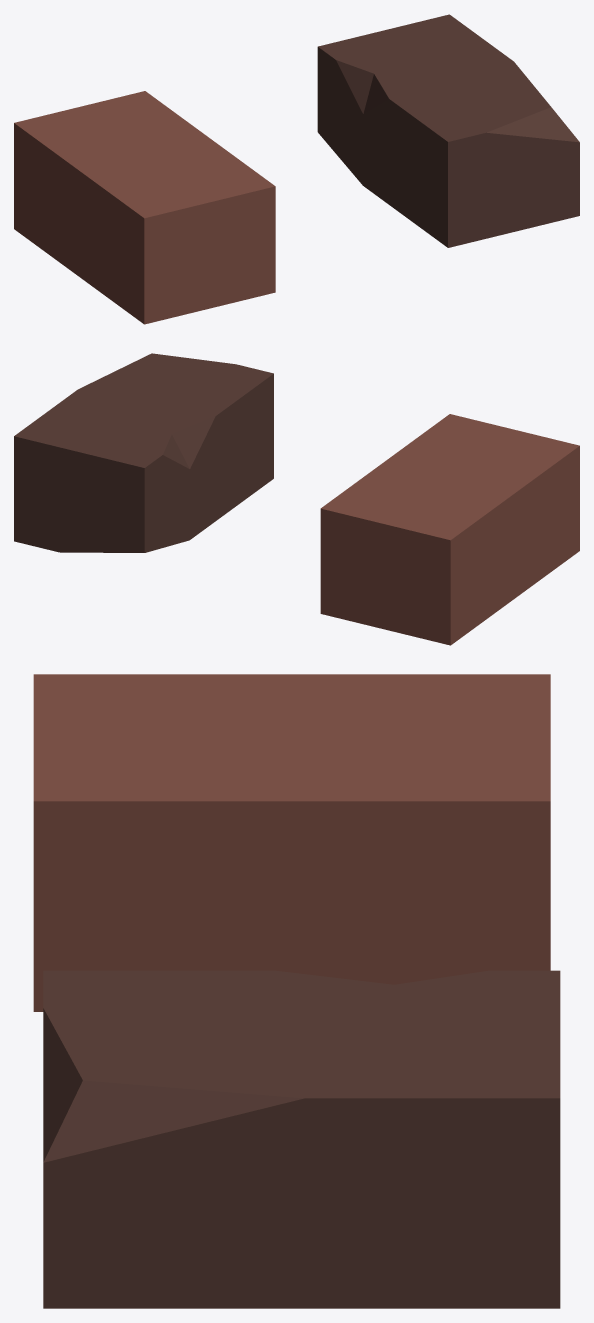
File: 2 bricks.fbx
3 views of the same model, one above another, from view 1: azimuth 30°, elevation 25°; view 2: azimuth 150°, elevation 25°; view 3: azimuth 270°, elevation 25° (orthographic). The views are drawn at different scales.
Parts seen in each view (by area): view 1: SM_Prop_Brick_Stack_02, brick 2; view 2: SM_Prop_Brick_Stack_02, brick 2; view 3: brick 2, SM_Prop_Brick_Stack_02.
Boxes of the visible parts, x1=… form: SM_Prop_Brick_Stack_02: x1=14, y1=91, x2=275, y2=324; brick 2: x1=317, y1=14, x2=579, y2=247; SM_Prop_Brick_Stack_02: x1=320, y1=414, x2=579, y2=645; brick 2: x1=14, y1=353, x2=273, y2=552; brick 2: x1=43, y1=970, x2=560, y2=1308; SM_Prop_Brick_Stack_02: x1=33, y1=674, x2=550, y2=1011.
Size of the model in its own units: 83.78 by 19.41 by 44.
Materials: 1 (1 with a texture image).
